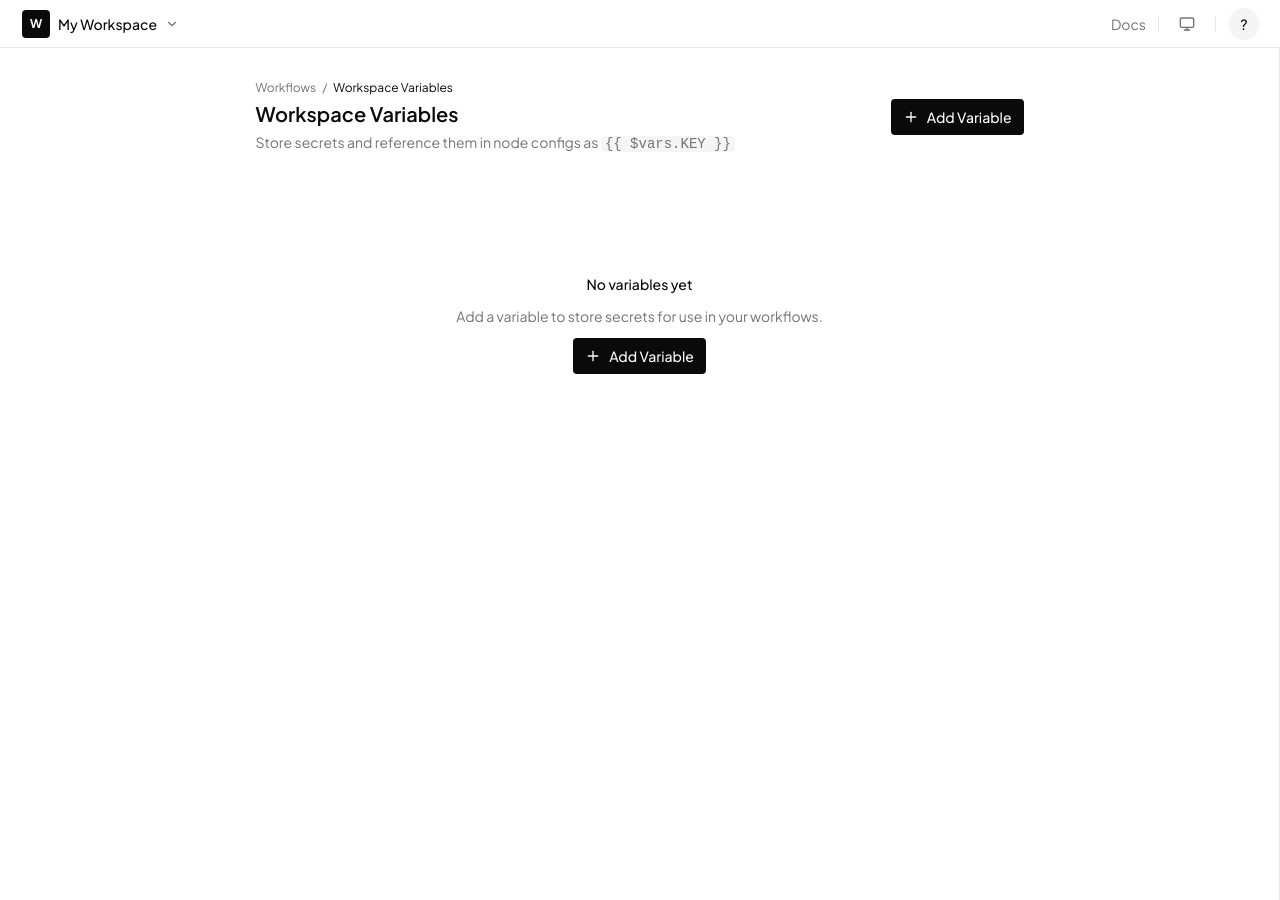
Test: VariablesPage — add variable drawer › opens the add drawer when "Add Variable" button is clicked
Click the 1st button "Add Variable": [957, 117] box [891,99,1024,135]
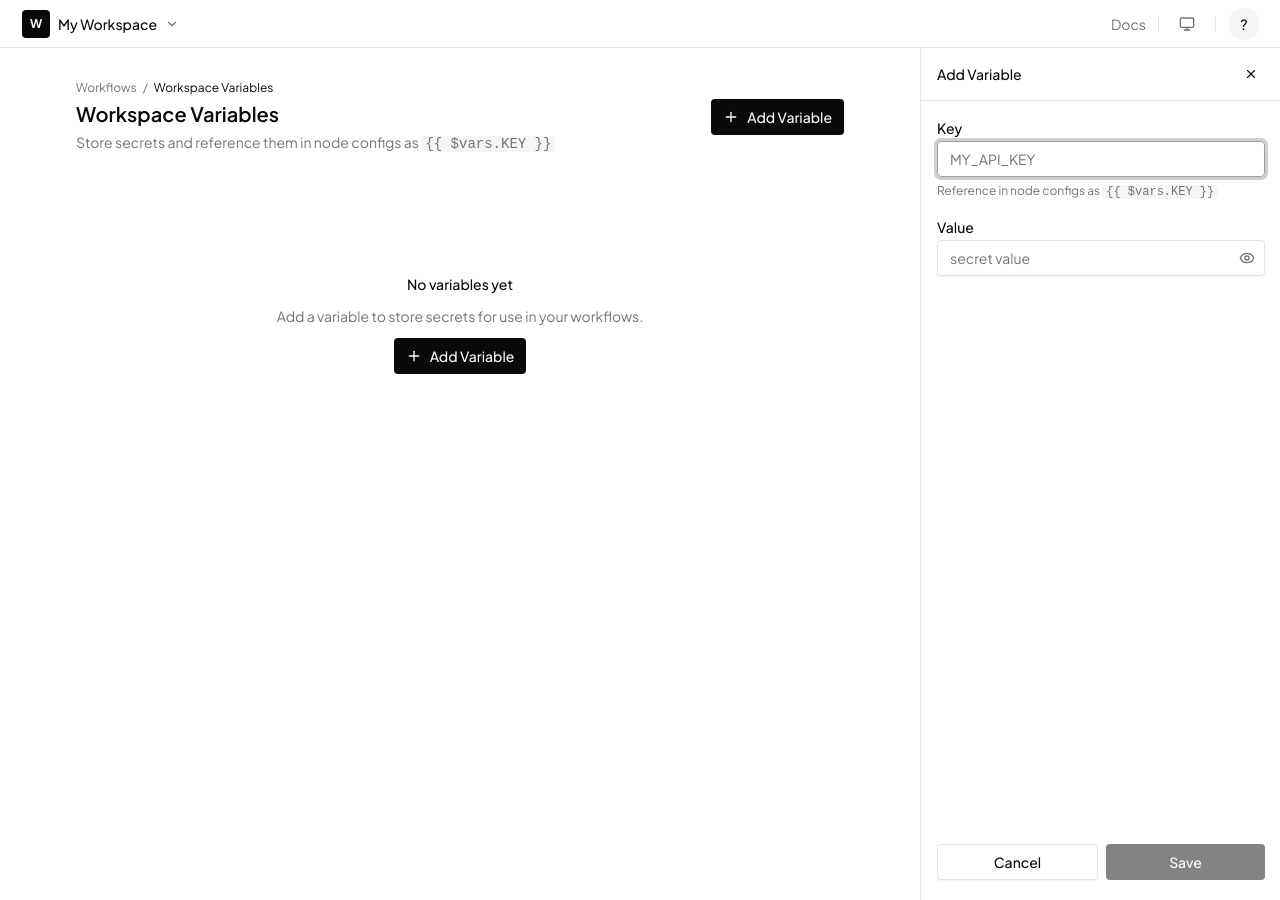
Expected: the field labelled "Key" is shown, [937,141,1265,177]
